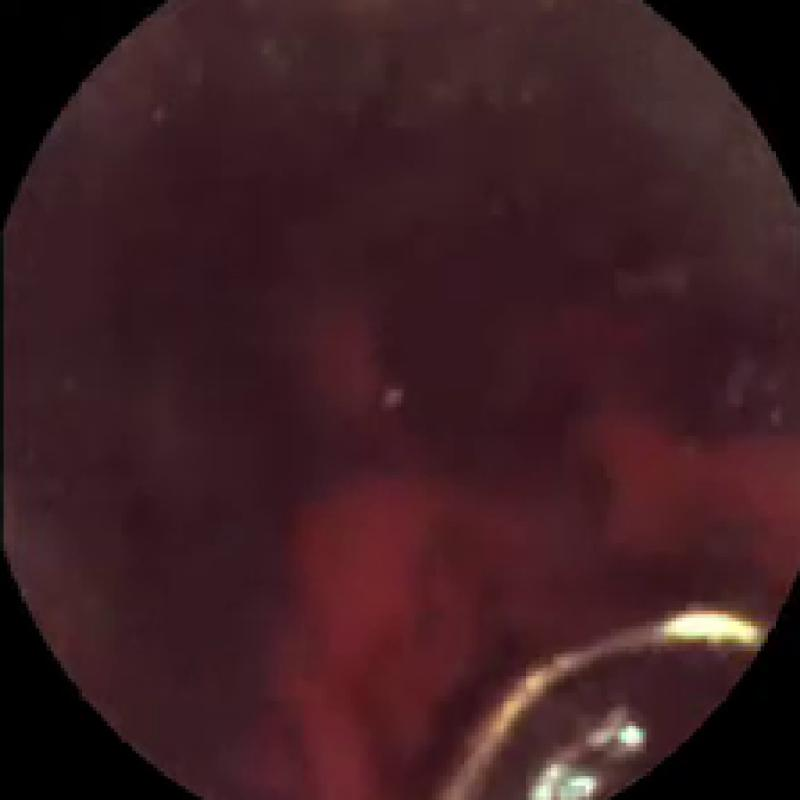bleeding: (243, 321, 800, 800)
